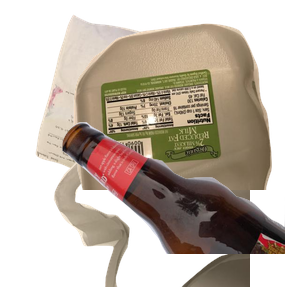glass: (60, 120, 300, 300)
paper: (33, 12, 214, 192)
plastic: (71, 21, 300, 201)
trash: (51, 120, 291, 300)
